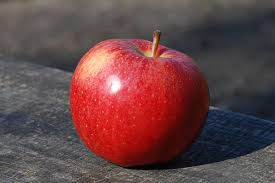apple: (73, 38, 210, 169)
